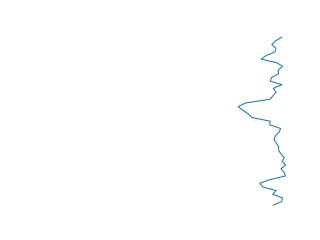interdistributaryEstuary: (235, 35, 292, 208)
